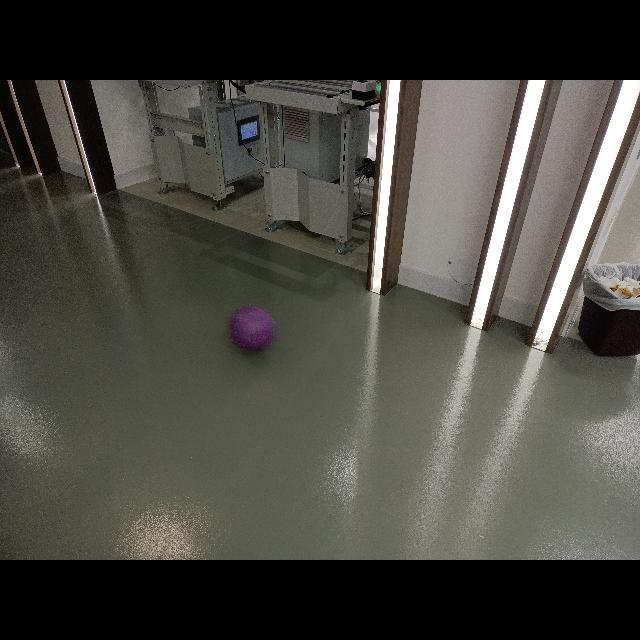P: (223, 300, 279, 356)
